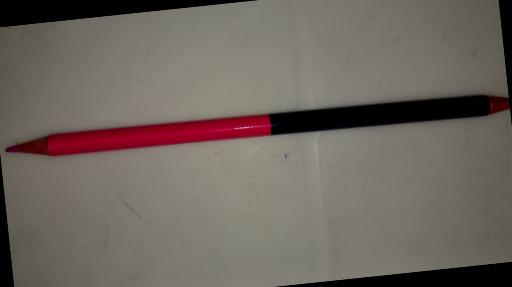Pencil: (6, 84, 510, 168)
